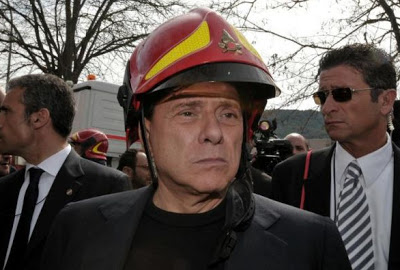helmet: (110, 5, 281, 88)
